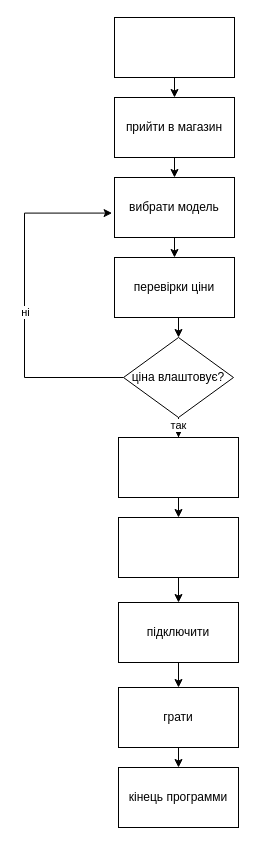
This 256x845 diagram has some shape labels left out. The centre of each missing label's shape, as x and y in pixels:
"почкаток програми" goes at (174,47).
"придбати" goes at (178,467).
"принести додому" goes at (178,547).
